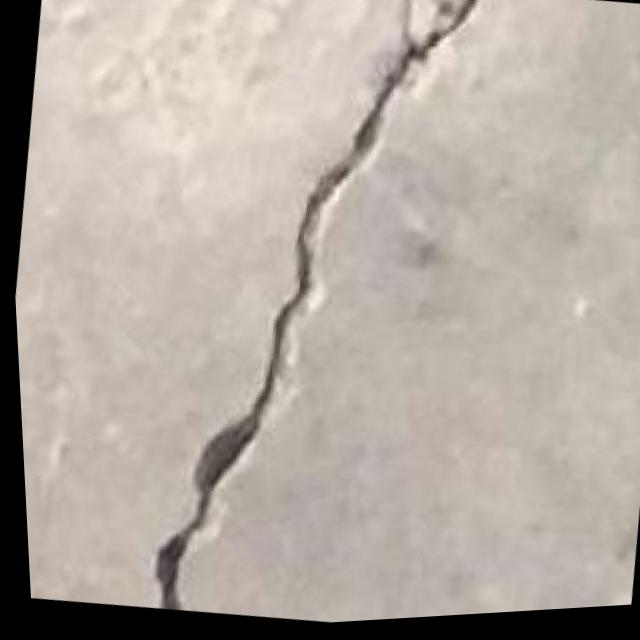Crack: (109, 0, 527, 635)
